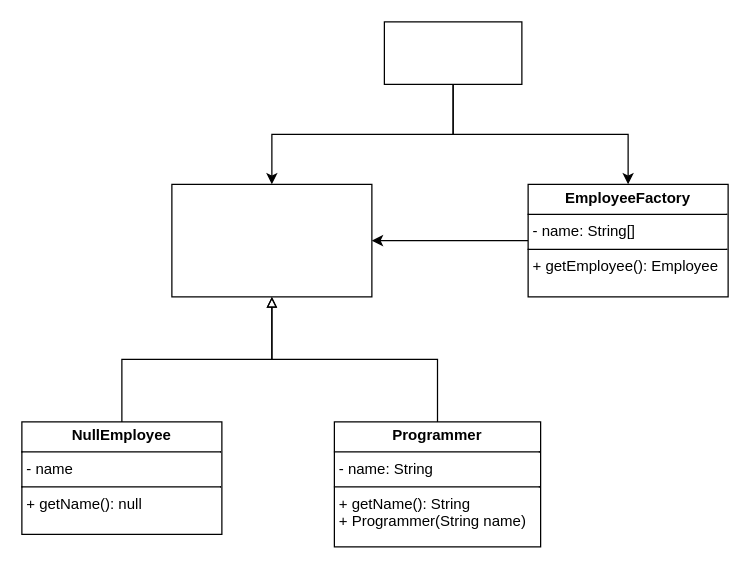
The diagram is 750 pixels wide and 569 high, and some of its shapes have lost their labels. Each missing label, with the centre of its shape:
"Employee - name: String + getName(): String" goes at point 271,240.
"NullDemo" goes at point 452,52.
